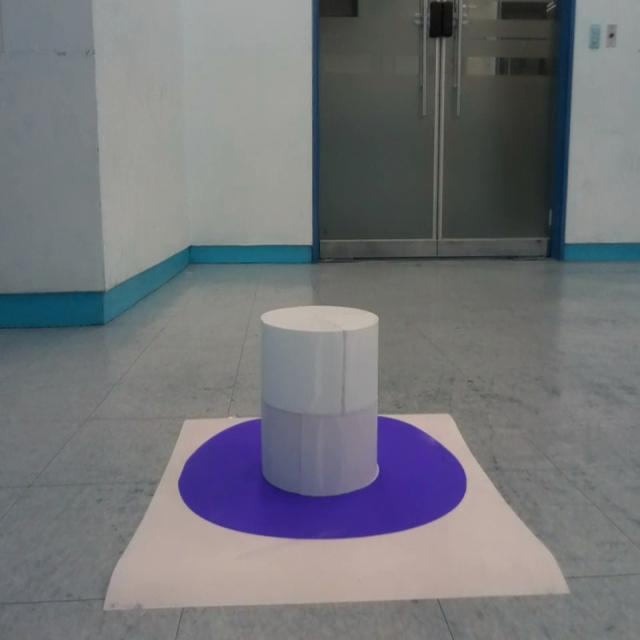cylinder: (260, 305, 381, 496)
